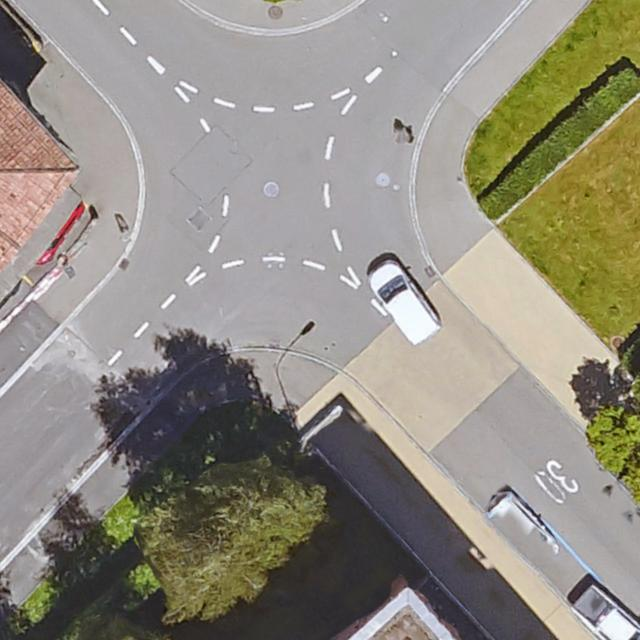tree: (146, 468, 327, 623), (54, 601, 168, 640), (588, 407, 639, 475)
